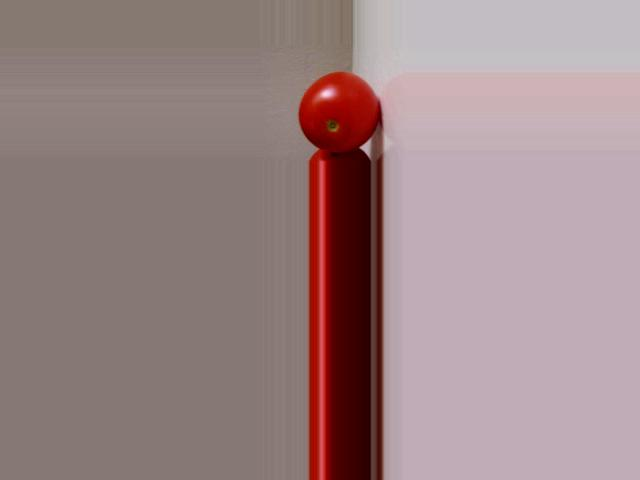tomato: (299, 72, 378, 152)
